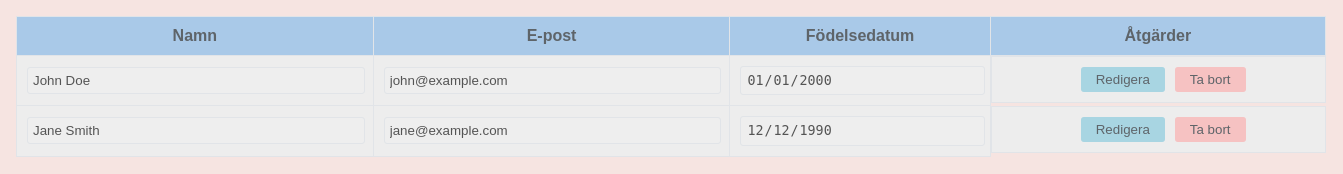
Scenario: <UserList /> › allows editing of user information
Click the 1st button "Redigera".
click(1123, 80)  # box [1081,67,1165,92]
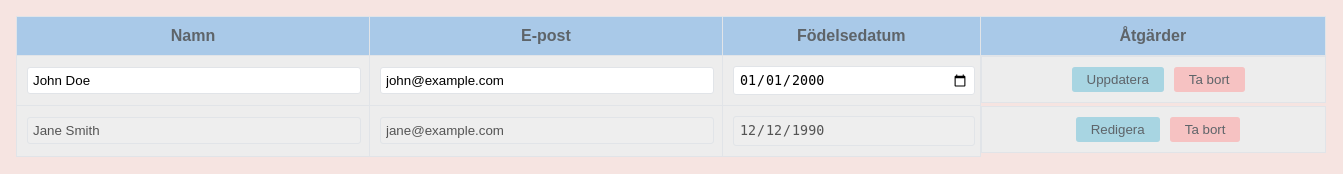
Check: the 1st field showing "John Doe" is enabled, box [27,67,361,94]
